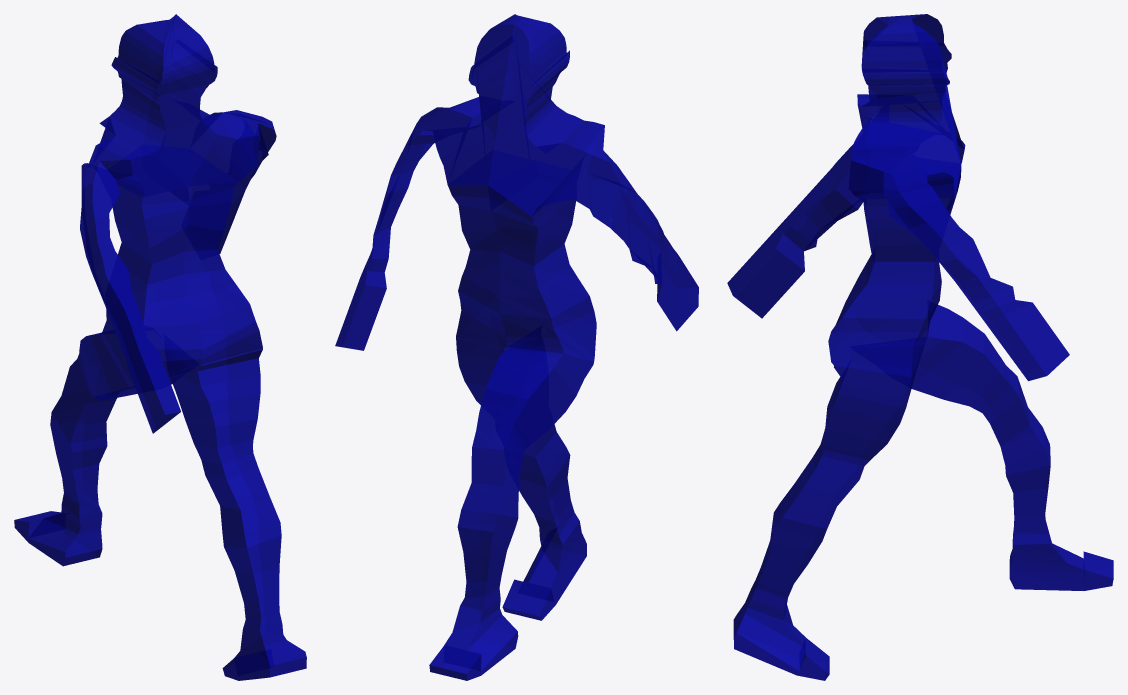
The model's file is woman_000022.obj.
3 views of the same model, side by side, from view 1: azimuth 30°, elevation 25°; view 2: azimuth 150°, elevation 25°; view 3: azimuth 270°, elevation 25° (orthographic).
Visible parts, largest first — view 1: Cube_Cube.001; view 2: Cube_Cube.001; view 3: Cube_Cube.001.
Part boxes in pixels (x1,y1,x2,y2): Cube_Cube.001: [14, 14, 306, 680]; Cube_Cube.001: [335, 14, 698, 680]; Cube_Cube.001: [727, 14, 1113, 680].
Size of the model in its own units: 3.62 by 10 by 5.51.
